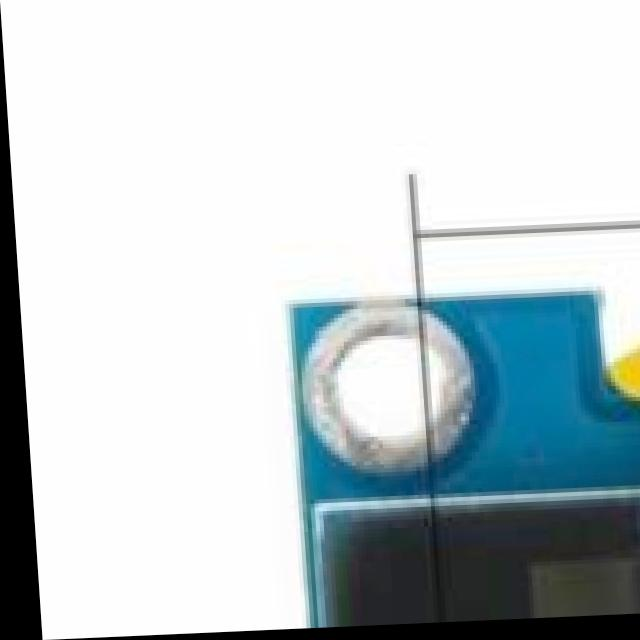display: (302, 470, 640, 630)
